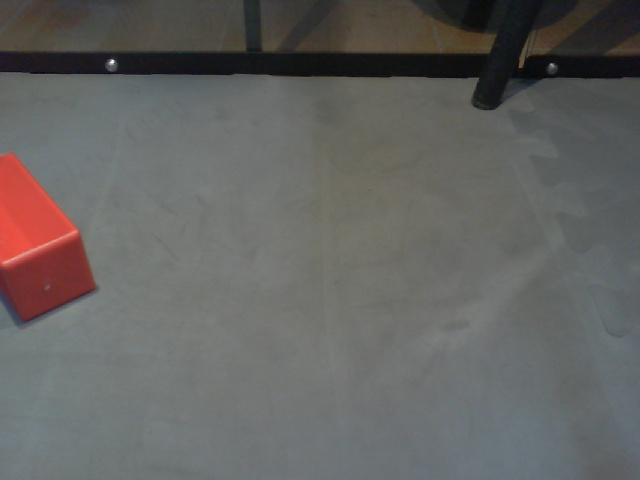RedSample: (1, 150, 98, 325)
